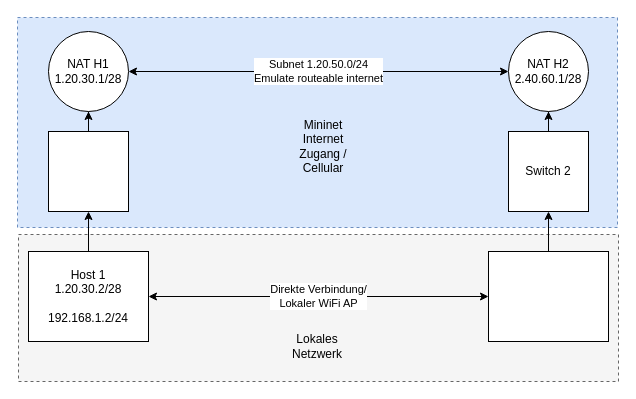
This 636x399 diagram has some shape labels left out. Each missing label, with the centre of its shape:
Host 2 2.40.60.3/28 192.168.1.3/24: (x=548, y=296)
Switch 1: (x=88, y=171)
